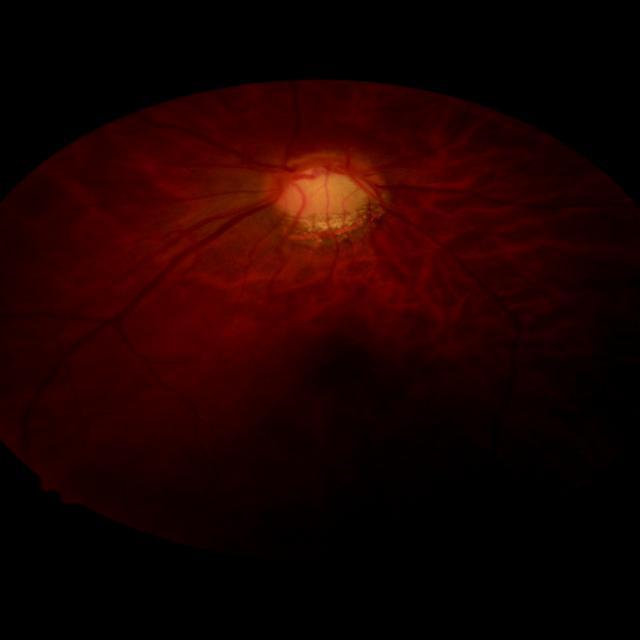cup: (278, 164, 367, 202)
disk: (264, 150, 383, 215)
